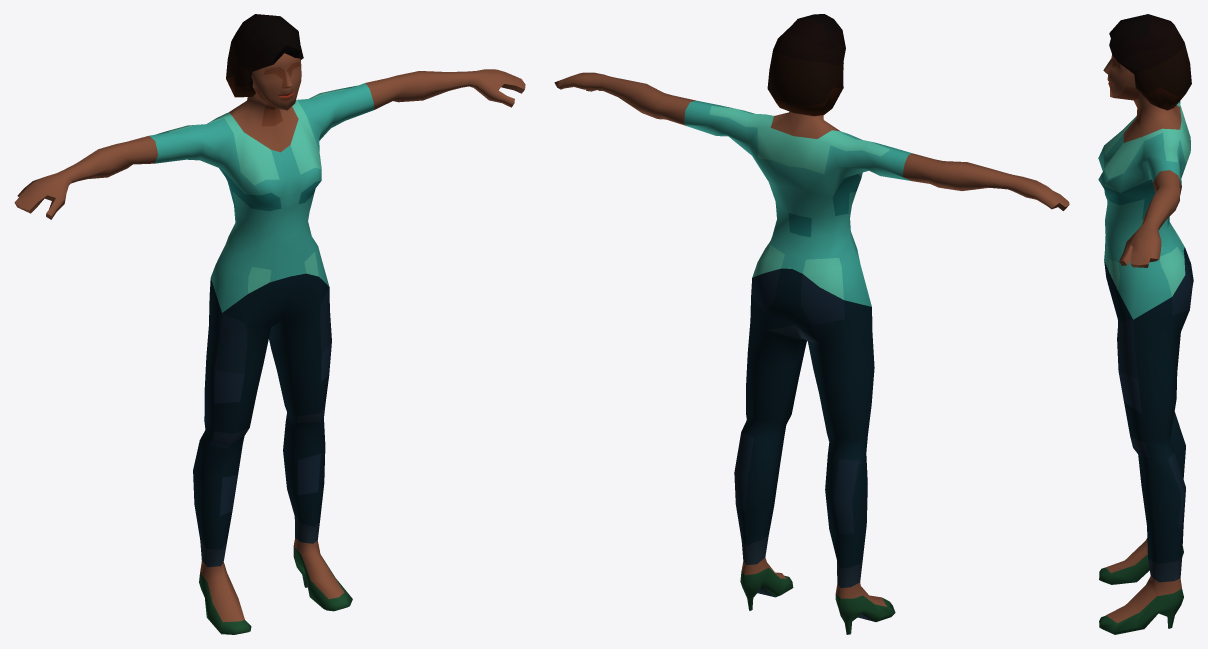
The model's file is Female_Model_3.FBX.
The picture shows the model from 3 angles, left to right: view 1: azimuth 30°, elevation 25°; view 2: azimuth 150°, elevation 25°; view 3: azimuth 270°, elevation 25°; orthographic projection.
Parts seen in each view (by area): view 1: lpFemale_casual_G003; view 2: lpFemale_casual_G003; view 3: lpFemale_casual_G003.
Part boxes in pixels (x1,y1,x2,y2): lpFemale_casual_G003: (14,14,525,634); lpFemale_casual_G003: (554,14,1069,634); lpFemale_casual_G003: (1098,14,1193,634).
Size of the model in its own units: 60.9 by 67.73 by 9.98.
